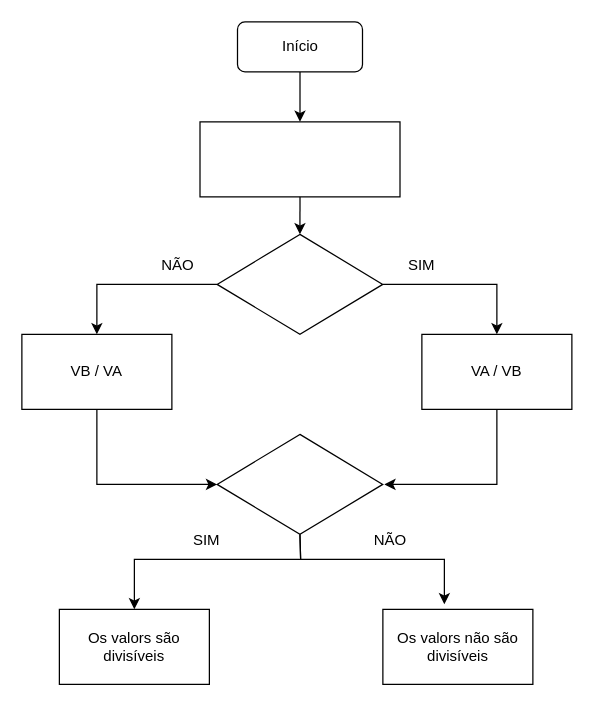
This 594x706 diagram has some shape labels left out. Each missing label, with the centre of its shape:
"Digite dois valores inteiros VA e VB" belongs at (x=299, y=159).
"Resto = 0?" belongs at (x=299, y=483).
"VA > VB?" belongs at (x=299, y=283).
